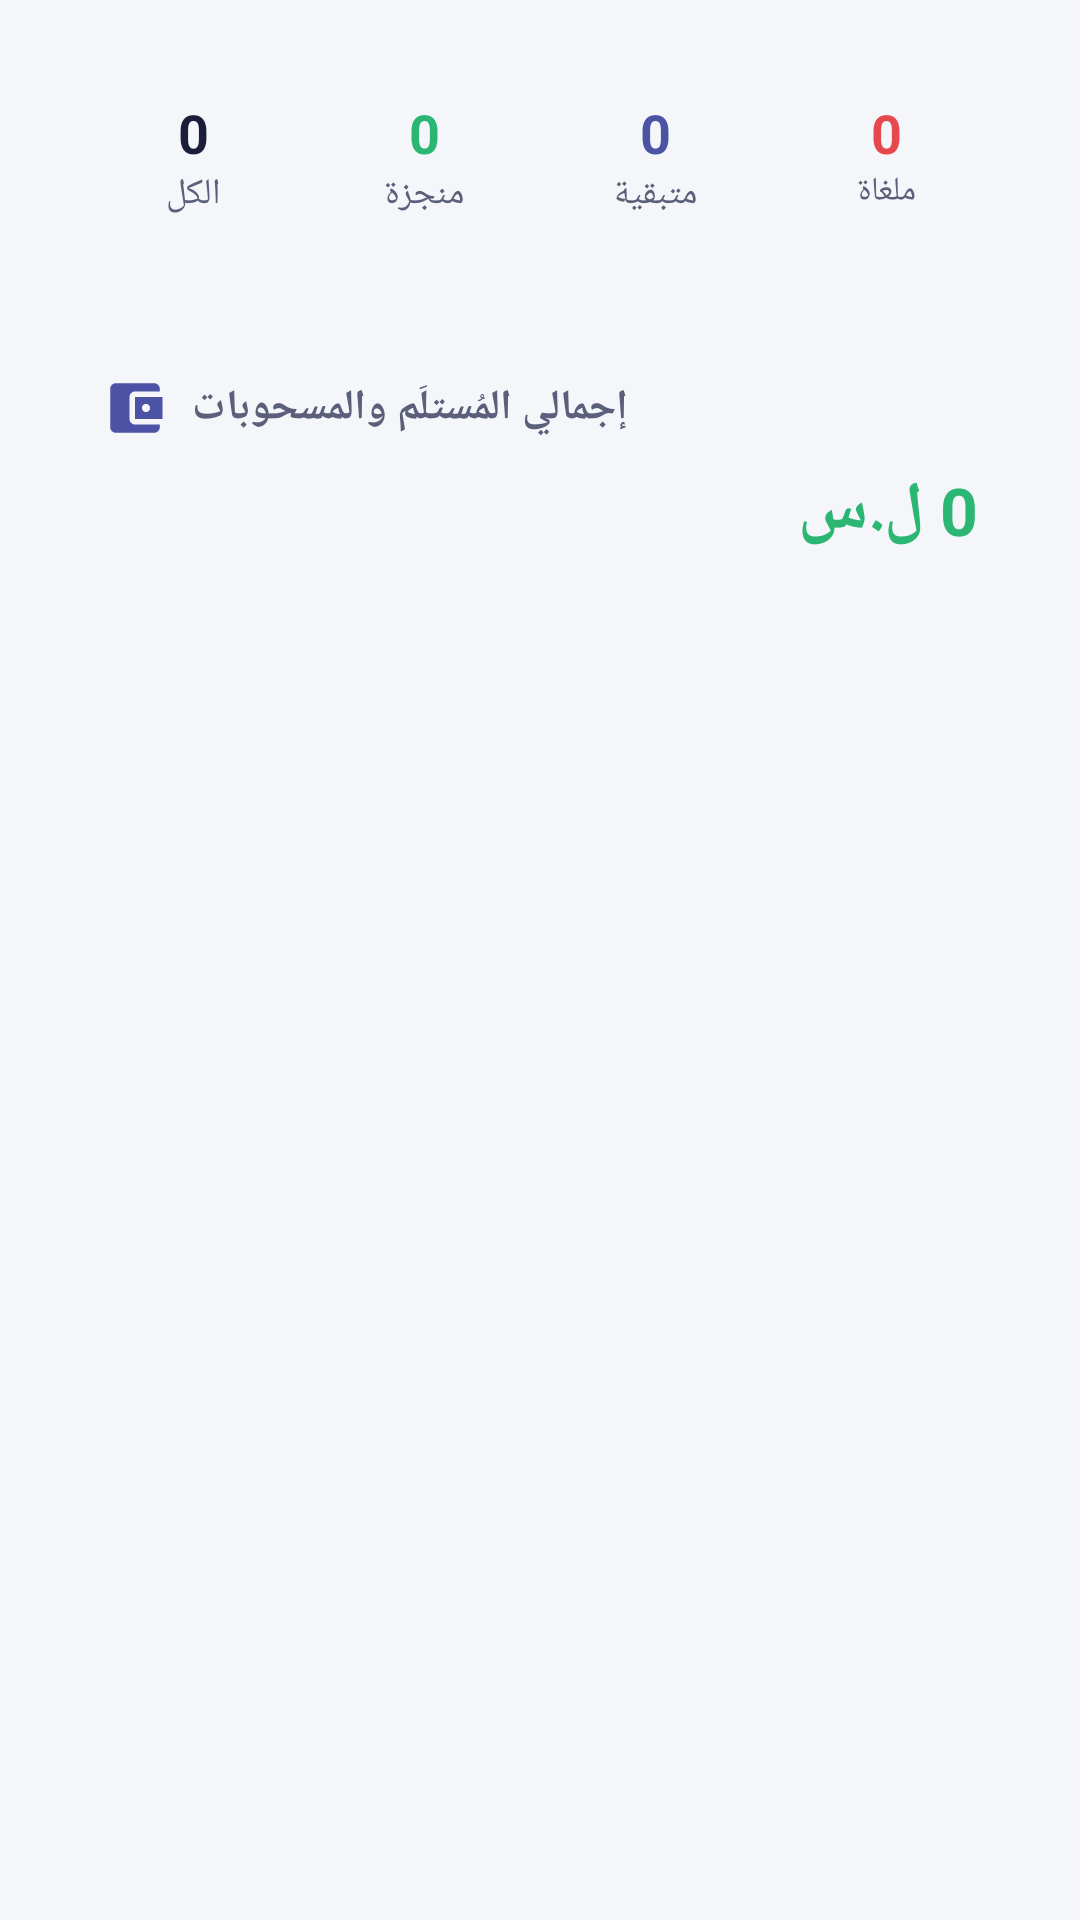

Icon click points for this 1080 x 1920 phone screenshot, format (x,y):
wallet: (136,408)
